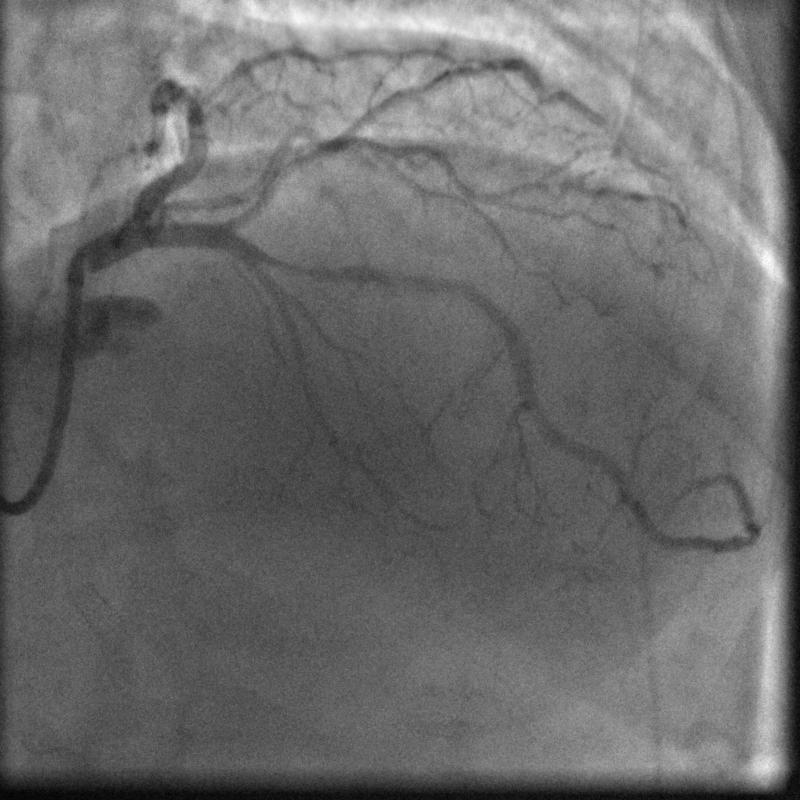Stenosis: (274, 243, 341, 281)
